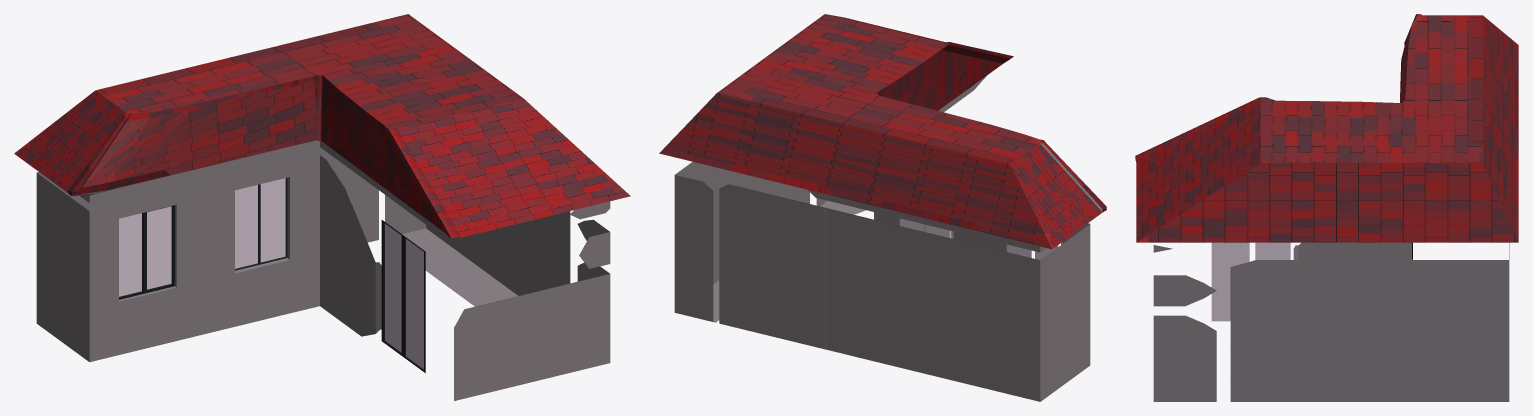
The model's file is building.fbx.
3 views of the same model, side by side, from view 1: azimuth 30°, elevation 25°; view 2: azimuth 150°, elevation 25°; view 3: azimuth 270°, elevation 25° (orthographic). The views are drawn at different scales.
Parts seen in each view (by area): view 1: walls, roof3, roof6, roof1, glass, roof7, roof2, frames, house; view 2: walls, roof4, roof3, roof2, roof7, glass, roof9; view 3: walls, roof5, roof3, roof6, roof4, glass, roof1.
Boxes of the visible parts, x1,y1,x2,y2 form: walls: (36, 140, 610, 400); roof3: (96, 14, 522, 129); roof6: (389, 98, 630, 238); roof1: (78, 75, 318, 194); glass: (119, 178, 423, 369); roof7: (321, 75, 444, 232); roof2: (14, 90, 131, 195); frames: (119, 178, 425, 372); house: (72, 152, 381, 333); walls: (674, 76, 1090, 401); roof4: (659, 93, 1051, 249); roof3: (717, 14, 1045, 164); roof2: (1010, 139, 1106, 249); roof7: (875, 50, 1002, 110); glass: (900, 218, 1058, 260); roof9: (941, 42, 1013, 63); walls: (1153, 242, 1509, 401); roof5: (1137, 163, 1518, 242); roof3: (1259, 14, 1482, 162); roof6: (1135, 97, 1260, 242); roof4: (1483, 15, 1518, 241); glass: (1211, 242, 1290, 321); roof1: (1400, 27, 1411, 102).
Size of the model in its own units: 1580 by 842 by 1294.
4 materials, 2 textured.
